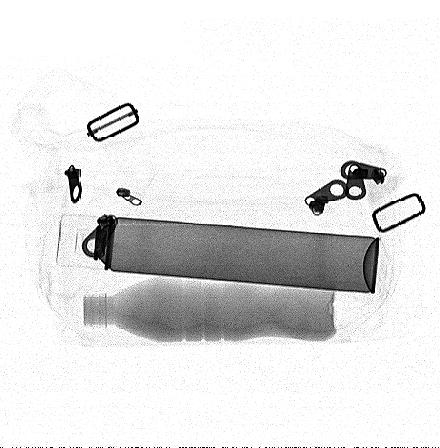Sprayer: (55, 214, 378, 293)
